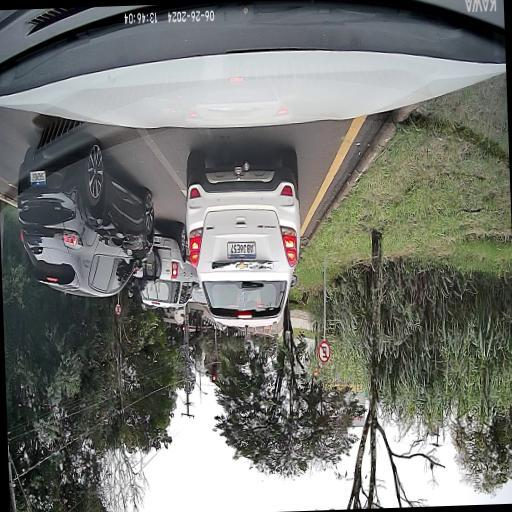R-6a: (316, 340, 330, 362)
R-6c: (114, 304, 120, 314)
